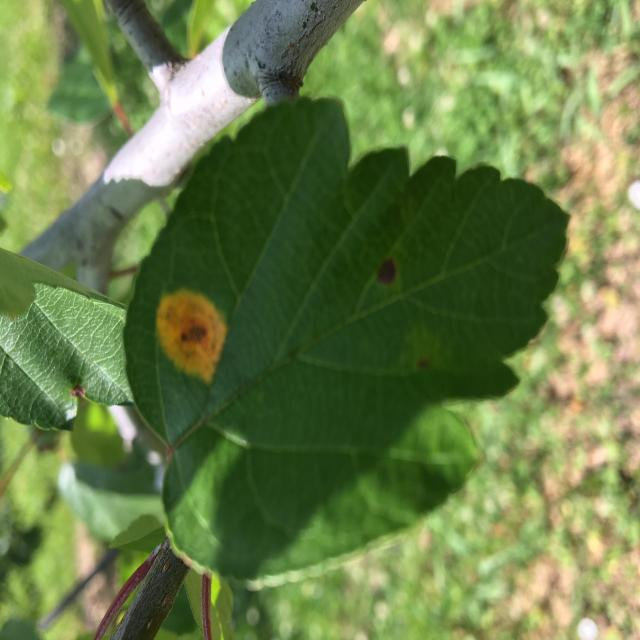Rust: (148, 244, 248, 421)
